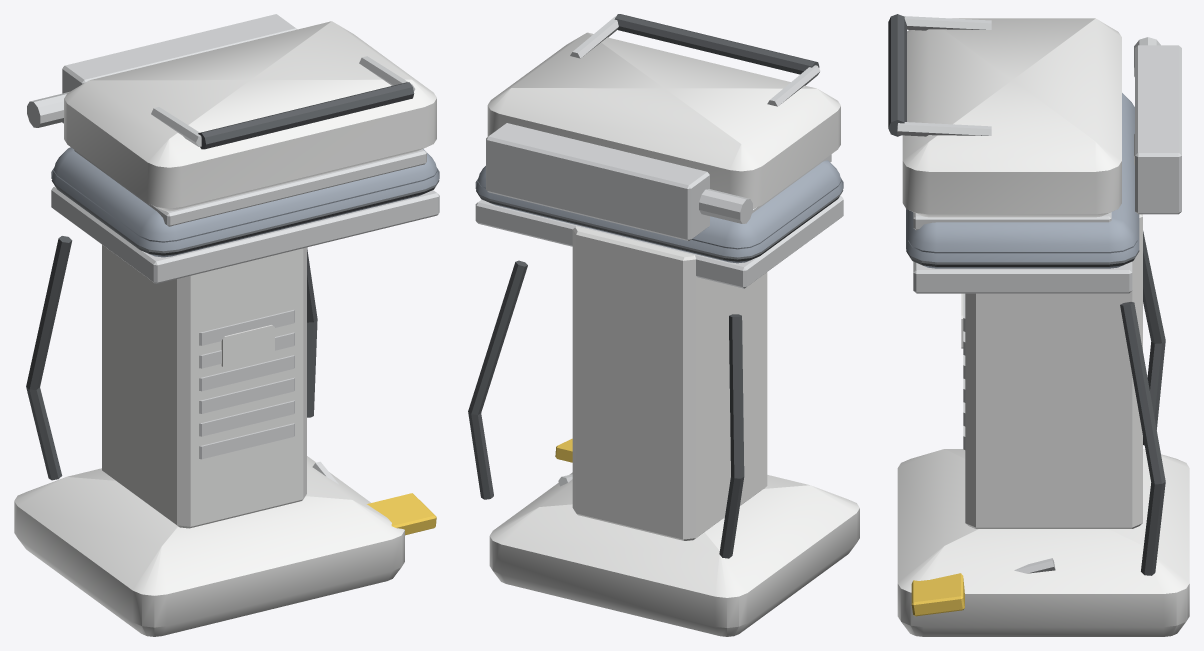
The model's file is laundrette-and-cleaning-garment-press-16f2bb87__25535.glb.
3 renders of one model, left to right at view 1: azimuth 30°, elevation 25°; view 2: azimuth 150°, elevation 25°; view 3: azimuth 270°, elevation 25°, orthographic. The views are drawn at different scales.
Parts seen in each view (by area): view 1: garment-press, head/carcass, head/metal, head/dark; view 2: garment-press, head/carcass, head/dark, head/metal; view 3: garment-press, head/carcass, head/metal, head/dark.
Boxes of the visible parts, x1=… form: garment-press: x1=14, y1=14, x2=439, y2=636; head/carcass: x1=64, y1=21, x2=436, y2=211; head/metal: x1=74, y1=56, x2=426, y2=226; head/dark: x1=198, y1=82, x2=414, y2=149; garment-press: x1=468, y1=123, x2=859, y2=636; head/carcass: x1=487, y1=32, x2=840, y2=208; head/dark: x1=614, y1=14, x2=819, y2=74; head/metal: x1=570, y1=16, x2=831, y2=213; garment-press: x1=897, y1=37, x2=1189, y2=636; head/carcass: x1=902, y1=18, x2=1121, y2=217; head/metal: x1=897, y1=16, x2=1111, y2=230; head/dark: x1=888, y1=14, x2=906, y2=136.
Size of the model in its own units: 0.7135 by 1.1 by 0.578.
